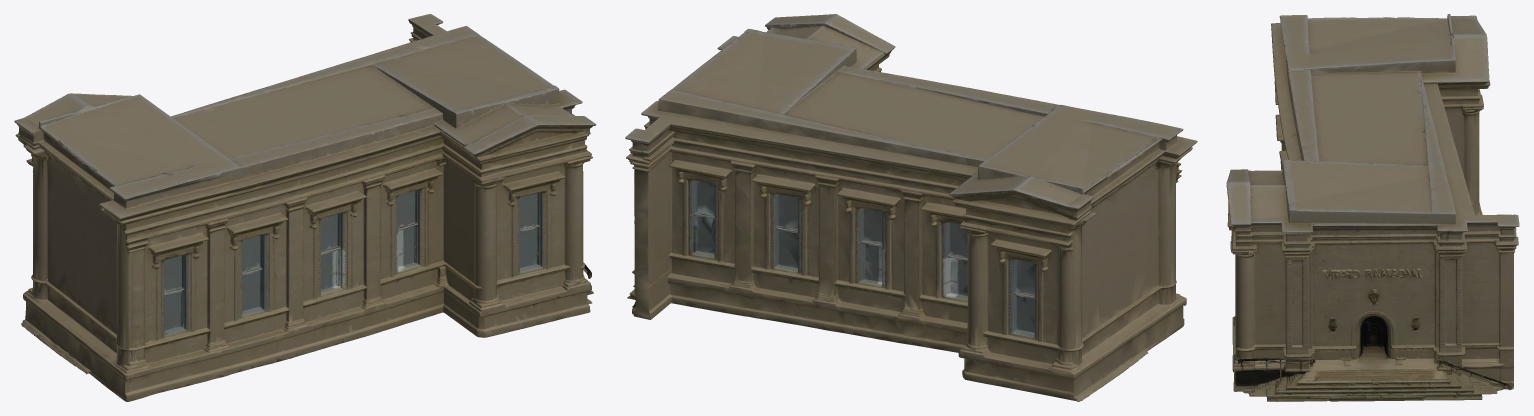
File: modelo.glb
3 renders of one model, left to right at view 1: azimuth 30°, elevation 25°; view 2: azimuth 150°, elevation 25°; view 3: azimuth 270°, elevation 25°, orthographic. The views are drawn at different scales.
Parts seen in each view (by area): view 1: vizcom_node_0; view 2: vizcom_node_0; view 3: vizcom_node_0.
Part boxes in pixels (x1=…): vizcom_node_0: x1=14, y1=14, x2=596, y2=401; vizcom_node_0: x1=625, y1=14, x2=1197, y2=401; vizcom_node_0: x1=1226, y1=14, x2=1519, y2=401.
Size of the model in its own units: 28.16 by 12 by 16.71.
Materials: 1 (1 with a texture image).
